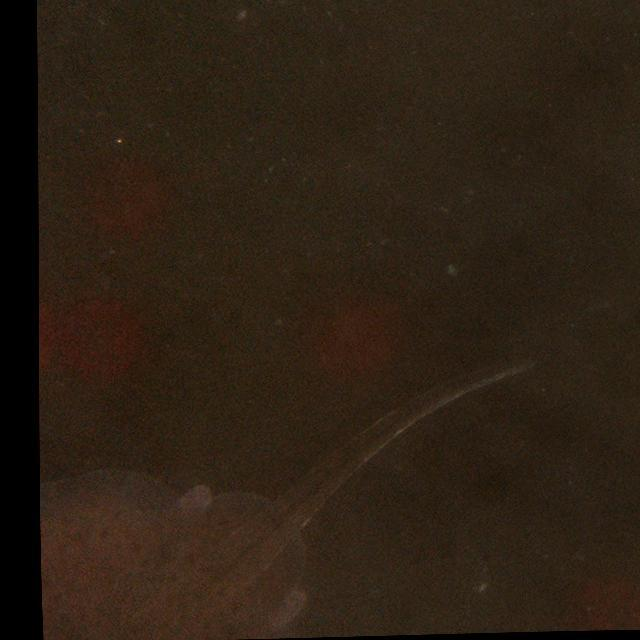skate: (45, 352, 537, 632)
